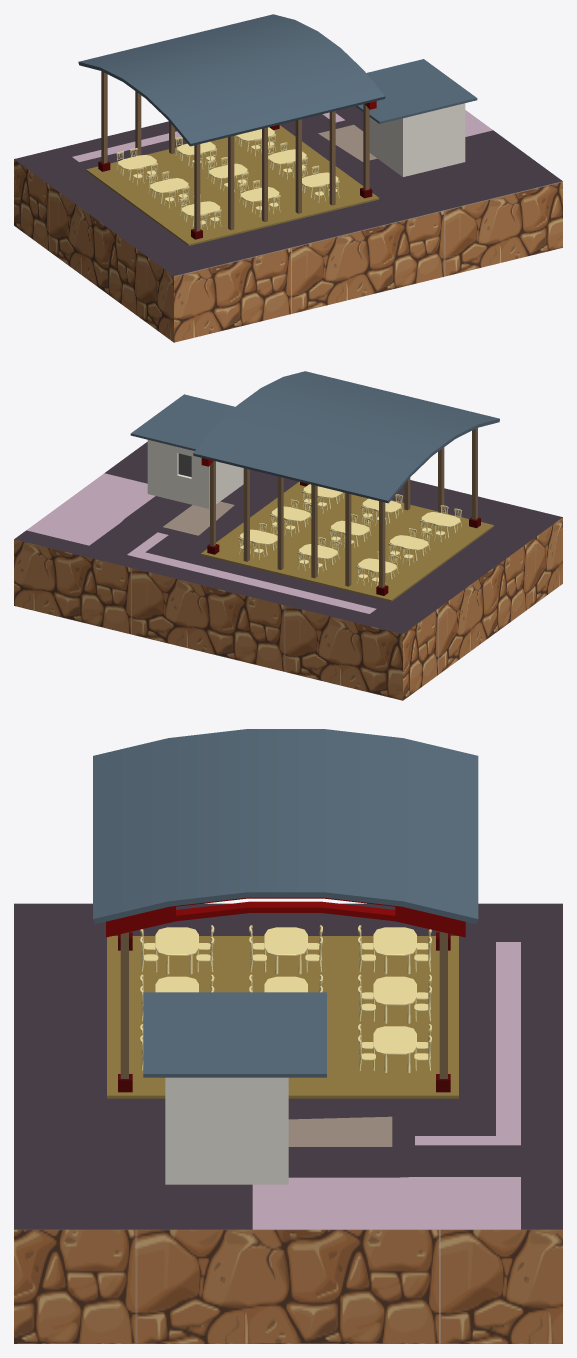
File: Chautari.glb
3 renders of one model, top to bottom at view 1: azimuth 30°, elevation 25°; view 2: azimuth 150°, elevation 25°; view 3: azimuth 270°, elevation 25°, orthographic. The views are drawn at different scales.
Visible parts, largest first — view 1: pPlane5, roof, polySurface200, pCube23, table, pillars; view 2: pPlane5, roof, polySurface200, pCube23, table, pillars; view 3: pPlane5, roof, pCube23, polySurface200, table, red_chautari, pillars.
Boxes of the visible parts, x1,y1,x2,y2 form: pPlane5: (14,106,562,342); roof: (78,14,385,146); polySurface200: (86,125,379,245); pCube23: (355,59,477,176); table: (116,127,339,229); pillars: (98,71,372,239); pPlane5: (14,442,562,700); roof: (193,371,499,503); polySurface200: (200,481,493,601); pCube23: (130,394,243,508); table: (238,484,461,586); pillars: (207,428,480,595); pPlane5: (14,903,562,1343); roof: (93,729,478,923); pCube23: (143,992,326,1184); polySurface200: (107,936,458,1098); table: (140,925,431,1072); red_chautari: (106,897,465,937); pillars: (118,931,450,1092).
Bounding box in the file's own units: 82.04 × 37.84 × 58.42.
12 materials, 1 textured.
